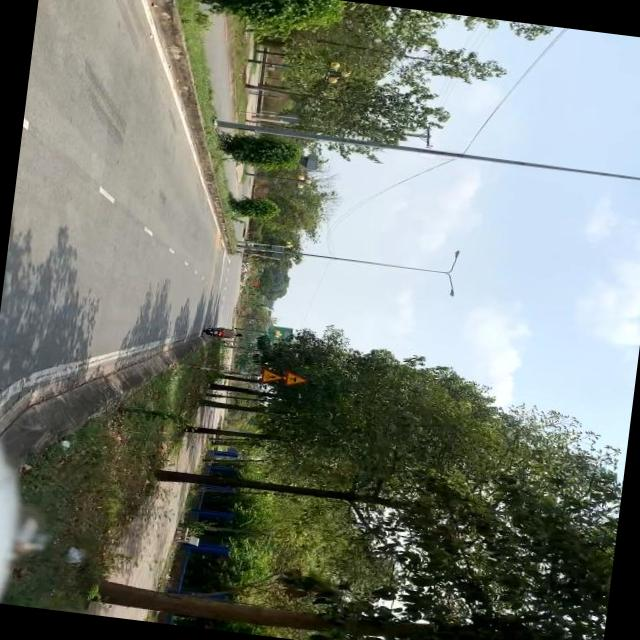W-205d: (282, 372, 308, 388)
W-224: (259, 368, 283, 386)
